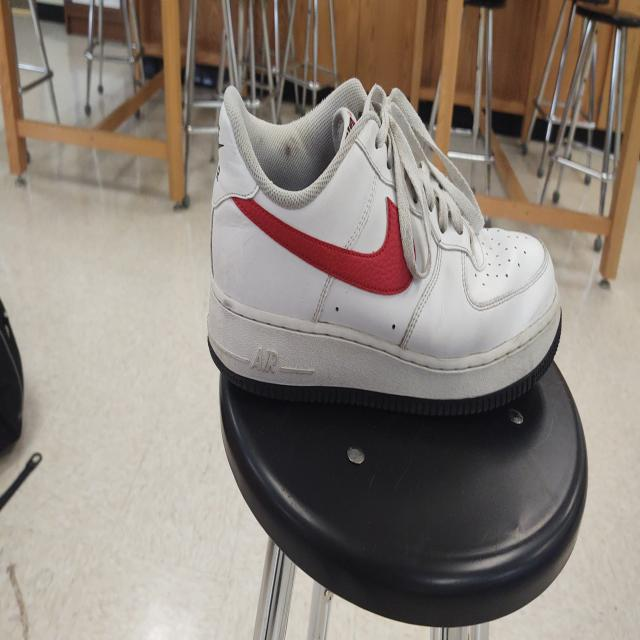shoe: (205, 74, 562, 420)
